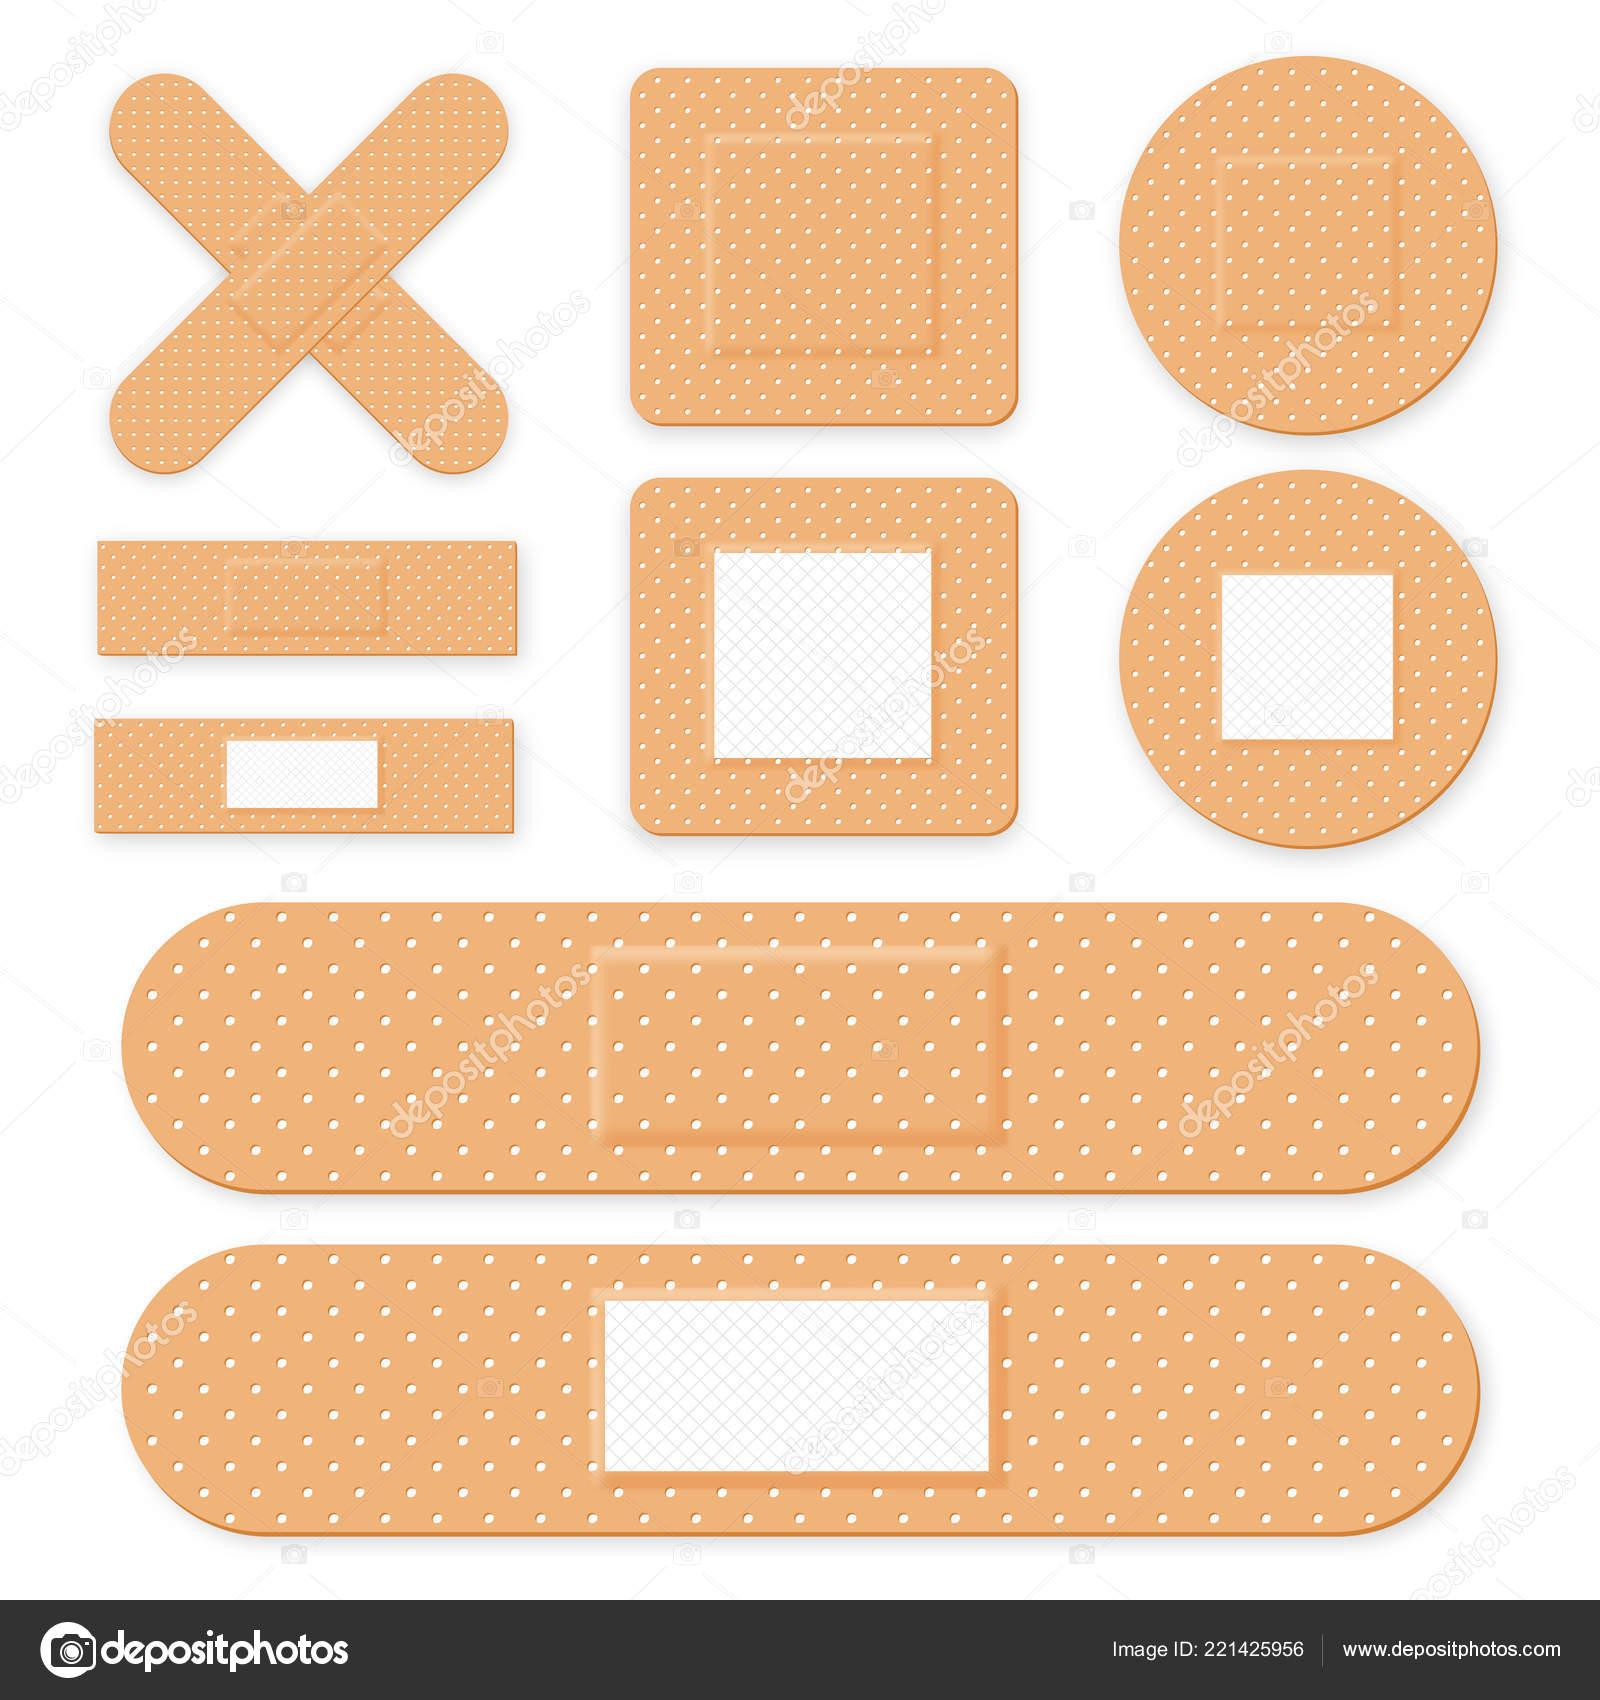bandage: (117, 894, 1477, 1199), (123, 1248, 1478, 1541), (107, 74, 519, 479), (1120, 54, 1498, 442), (627, 65, 1023, 428), (1120, 473, 1498, 842), (630, 478, 1015, 831), (98, 541, 516, 661), (98, 717, 519, 830)
